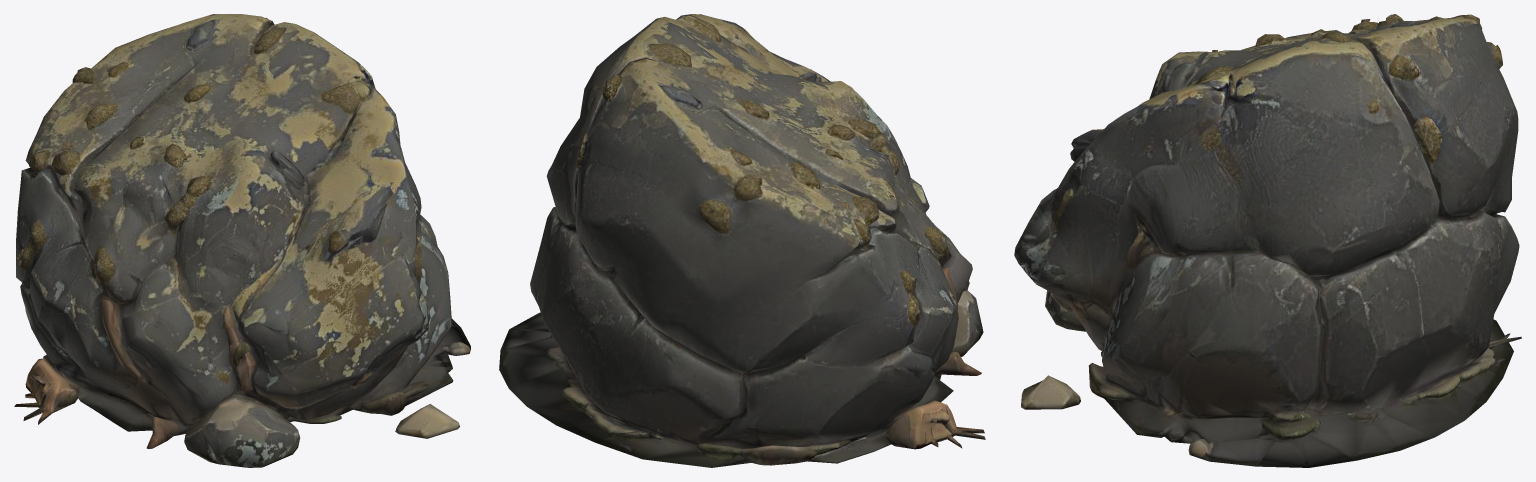
The model's file is sc_boulder.glb.
The picture shows the model from 3 angles, left to right: view 1: azimuth 30°, elevation 25°; view 2: azimuth 150°, elevation 25°; view 3: azimuth 270°, elevation 25°; orthographic projection. The views are drawn at different scales.
Visible parts, largest first — view 1: sc_boulder; view 2: sc_boulder; view 3: sc_boulder.
Boxes of the visible parts, x1,y1,x2,y2 form: sc_boulder: [14, 14, 470, 467]; sc_boulder: [499, 14, 985, 467]; sc_boulder: [1014, 14, 1521, 467].
Size of the model in its own units: 2.1 by 1.46 by 1.9.
Materials: 1 (1 with a texture image).
